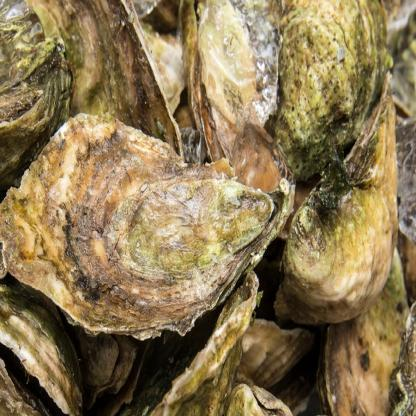3: (317, 252, 407, 416), (56, 307, 150, 416)
Oyster-Closed: (0, 114, 289, 330), (33, 0, 181, 155), (277, 0, 393, 176), (121, 273, 259, 416), (0, 284, 80, 416), (227, 386, 299, 416)
Oyster-Open: (276, 87, 398, 326), (196, 0, 278, 128), (241, 323, 311, 389), (232, 125, 288, 187), (388, 301, 416, 416), (0, 361, 51, 416)
